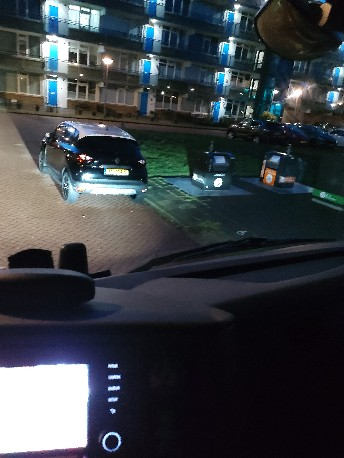Container: (195, 139, 241, 194), (264, 151, 309, 198)
